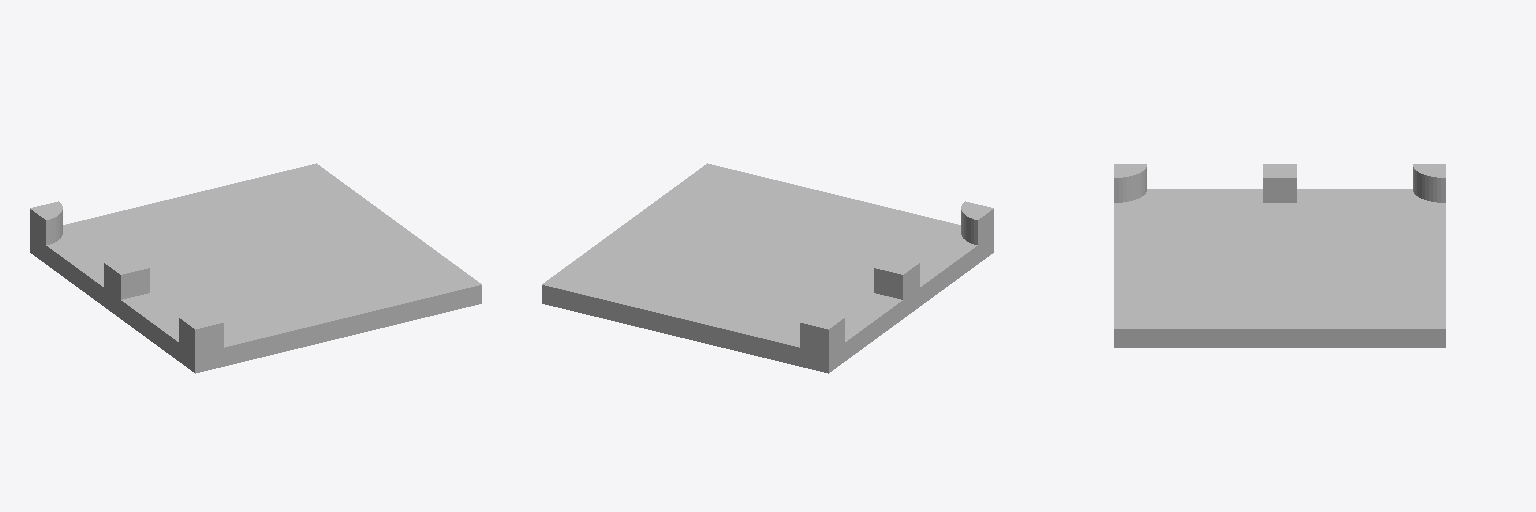
Rendered from splitWallsToOpen.obj.
The picture shows the model from 3 angles: view 1: azimuth 30°, elevation 25°; view 2: azimuth 150°, elevation 25°; view 3: azimuth 270°, elevation 25°; orthographic projection.
Visible parts, largest first — view 1: splitWallsToOpen; view 2: splitWallsToOpen; view 3: splitWallsToOpen.
Boxes of the visible parts, x1=… form: splitWallsToOpen: x1=30, y1=163, x2=481, y2=373; splitWallsToOpen: x1=542, y1=163, x2=993, y2=373; splitWallsToOpen: x1=1114, y1=164, x2=1445, y2=347.
Bounding box in the file's own units: 0.9999 × 0.1467 × 0.9999.